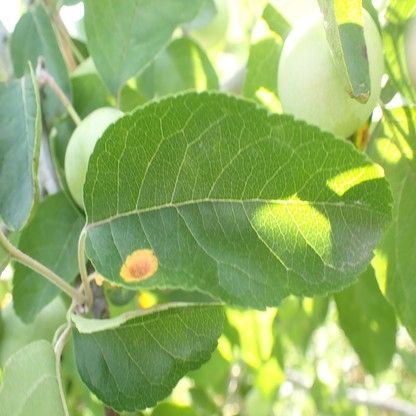rust: (121, 248, 157, 281), (357, 120, 369, 150)
